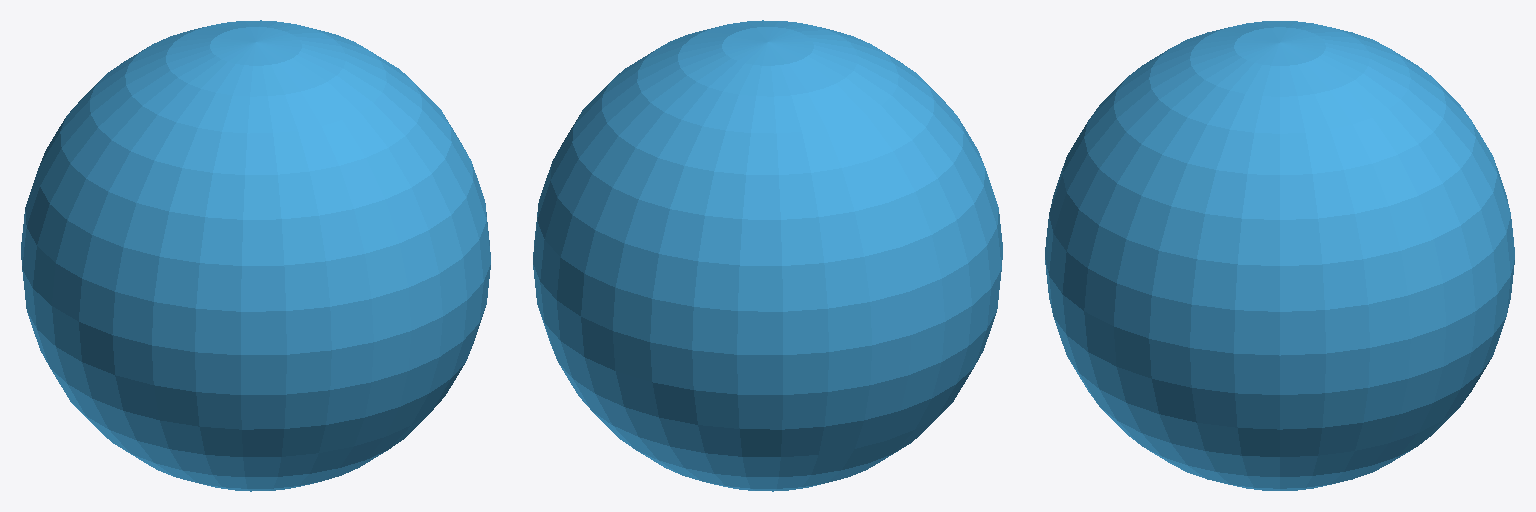
URDF robot description (urdf_robot):
<?xml version="1.0" ?>
<robot name="urdf_robot">
  <link name="baseLink">
    <inertial>
      <origin rpy="0 0 0" xyz="0 0.05 0.025"/>
       <mass value="0.0"/>
       <inertia ixx="0" ixy="0" ixz="0" iyy="0" iyz="0" izz="0"/>
    </inertial>
  </link>
   <link name="childA">
    <inertial>
      <origin rpy="0 0 0" xyz="0 0.05 0.025"/>
      <mass value="1.0"/>
      <inertia ixx="0.048966669" ixy="0" ixz="0" iyy="0.046466667" iyz="0" izz="0.0041666669"/>
    </inertial>
    <visual>
      <origin rpy="0 0 0" xyz="0 0.05 0.025"/>
      <geometry><sphere radius="0.005"/></geometry>
    </visual>
    <collision>
      <origin rpy="0 0 0" xyz="0 0.05 0.025"/>
      <geometry><sphere radius="0.005"/></geometry>
    </collision>
  </link>
   <joint name="joint_baseLink_childA" type="fixed">
    <parent link="baseLink"/>
    <child link="childA"/>
    <origin xyz="0 0 0"/>
	<axis xyz="0 1 0"/>
	<limit>
    <lower>-0.25</lower>
    <upper>0.25</upper>
    </limit>
  </joint>
 
</robot>

--- Render facts (derived) ---
3 views of the same robot in one strip: view 1: azimuth 30°, elevation 25°; view 2: azimuth 150°, elevation 25°; view 3: azimuth 270°, elevation 25° (orthographic).
Robot: urdf_robot — 2 links, 1 joints (1 fixed); root link baseLink; default pose: all joints at 0.
Links seen in each view (by area): view 1: childA; view 2: childA; view 3: childA.
Boxes of the visible links, x1,y1,x2,y2 form: childA: (21,20,490,491); childA: (533,20,1002,491); childA: (1045,21,1514,490).
Bounding box of the posed robot: 0.01 × 0.01 × 0.01 m (x, y, z).
Geometry: primitives only (box / cylinder / sphere), no mesh files.